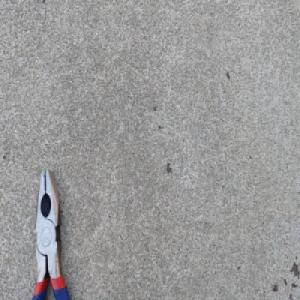Pliers: (31, 163, 73, 300)
